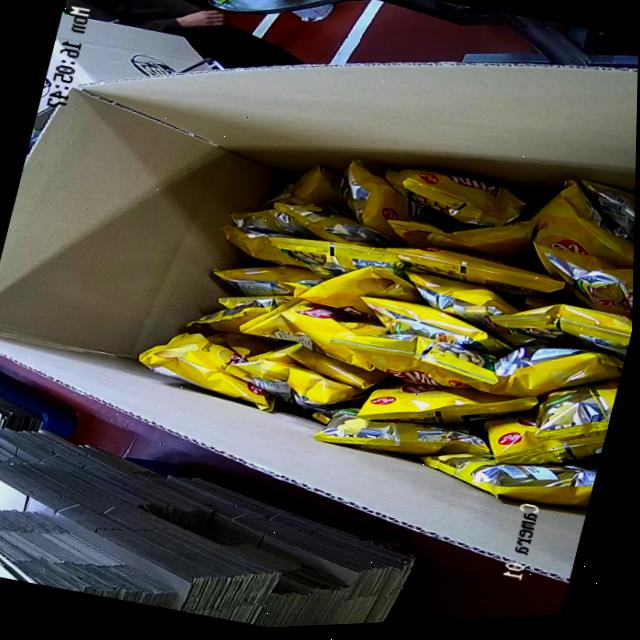SALTED: (117, 88, 637, 541)
